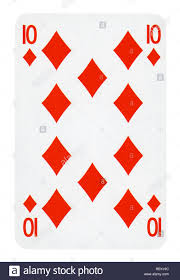ten of diamonds: (16, 15, 166, 245)
